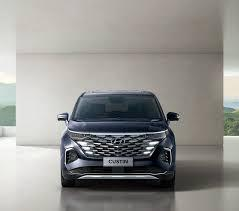hyundai: (108, 135, 128, 148)
